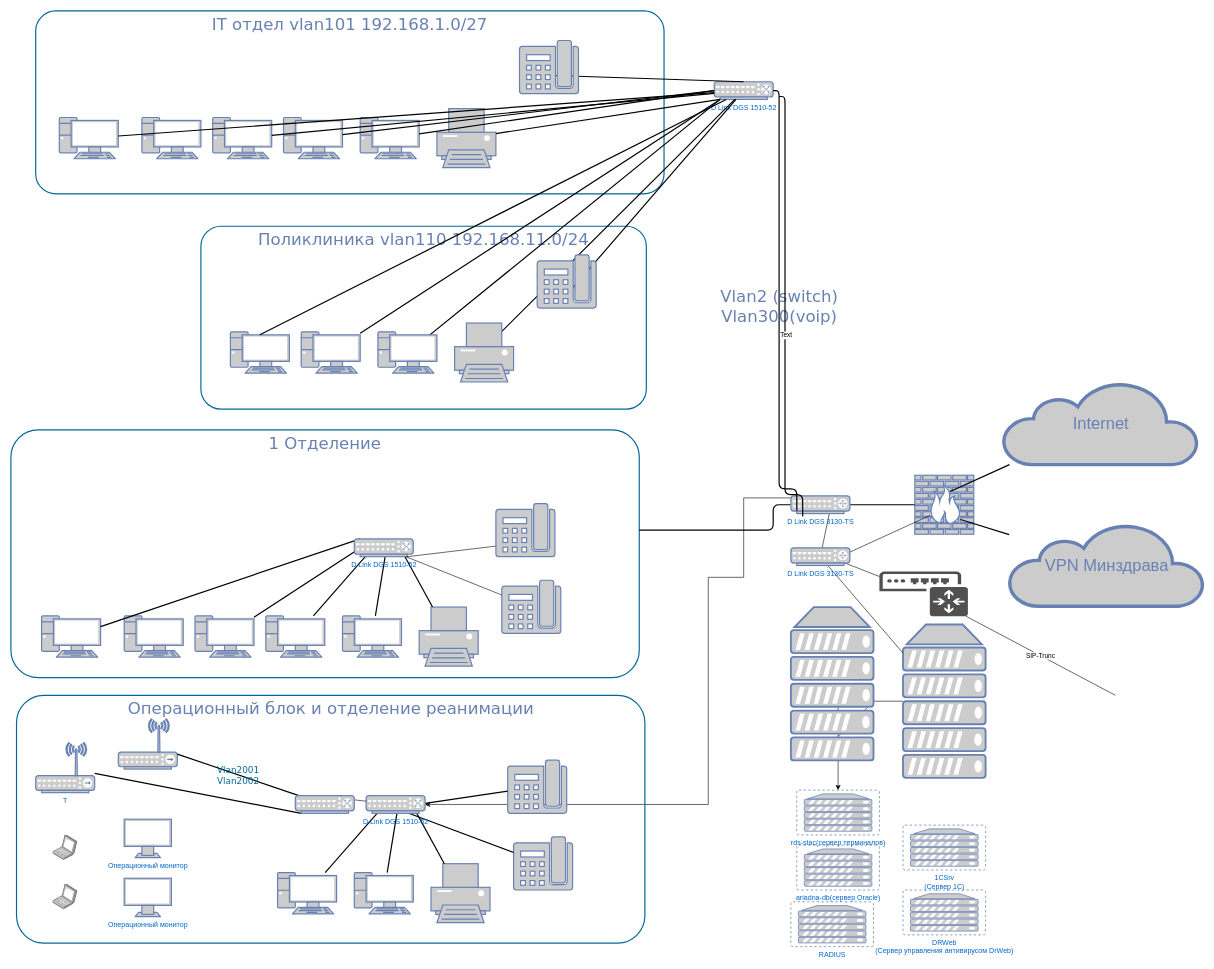
The diagram is 1214 pixels wide and 969 high, and some of its shapes have lost their labels. The shapes that lost their labels are listed below. From the top down, each one's centre as x and y in pixels, then its label:
At point (944, 504): "UserGate d500".
At point (923, 593): "Granstream UCM 6510".
At point (832, 683): "HVS1 (Гипервизор Hyper-V)".
At point (944, 701): "HVS2 (Гипервизор Hyper-V)".
At point (324, 804): "TP Link SG2210MP".
